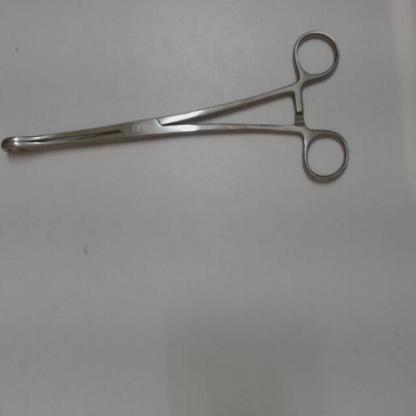Sponge Forceps: (1, 22, 355, 192)
